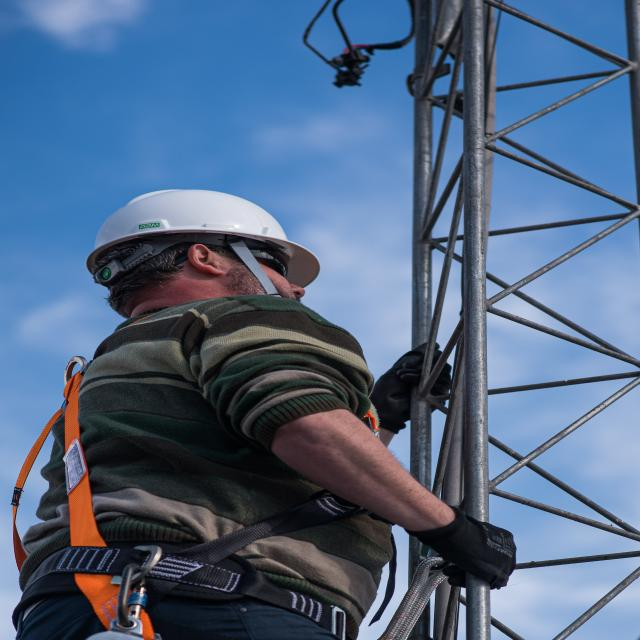capacete: (79, 184, 327, 292)
luva: (389, 502, 527, 602)
